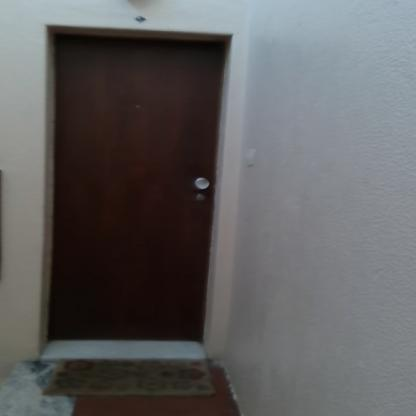door: (52, 36, 218, 340)
knob: (190, 174, 212, 192)
